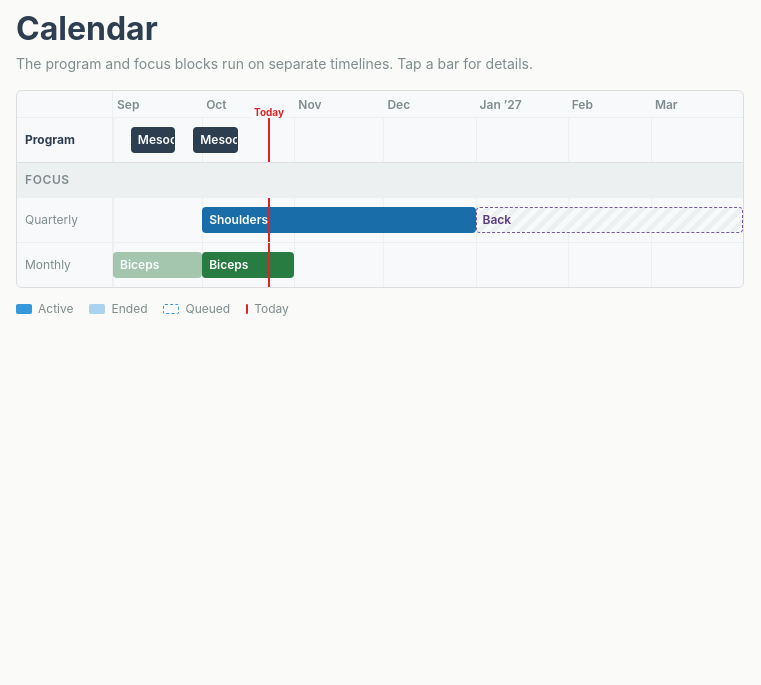
Scenario: FocusCalendar › shows a cancelled auto-roll as declined even when the refetch after it fails
Click the button with aria-label "Back focus block" at (497, 220), box [476,207,743,233]
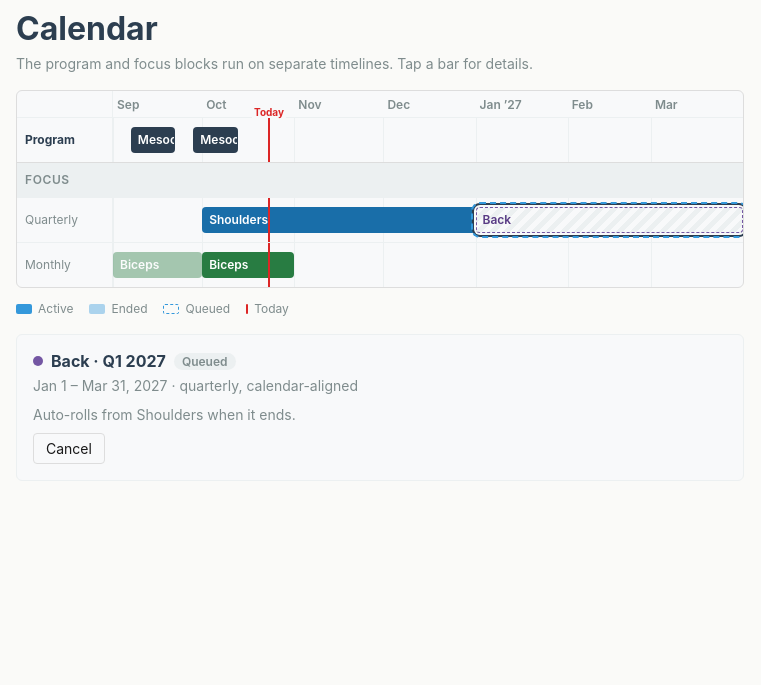
Click the button "Cancel" at (69, 448), box [33,433,105,464]
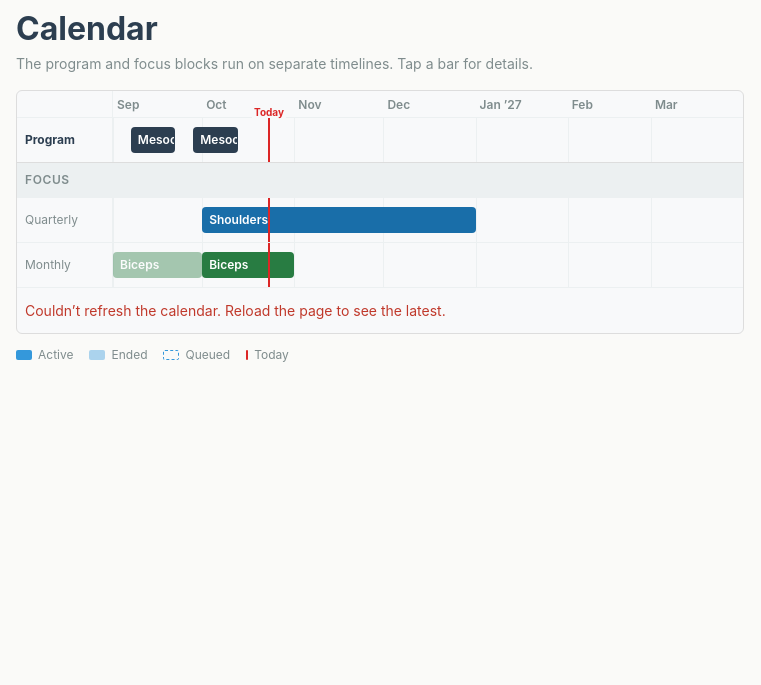
Click the button with aria-label "Shoulders focus block" at (239, 220), box [202,207,476,233]
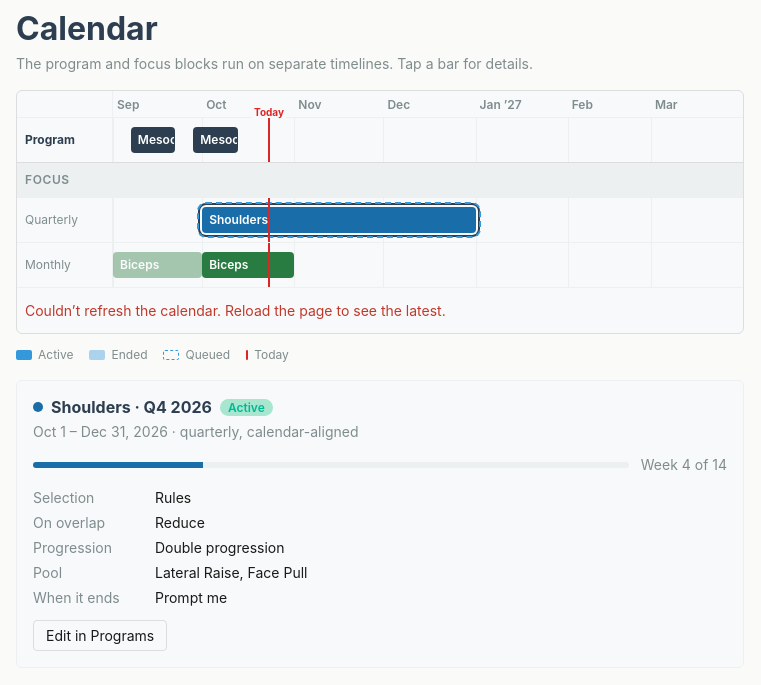
Now the text "Prompt me" is shown, box [155,589,227,606]
